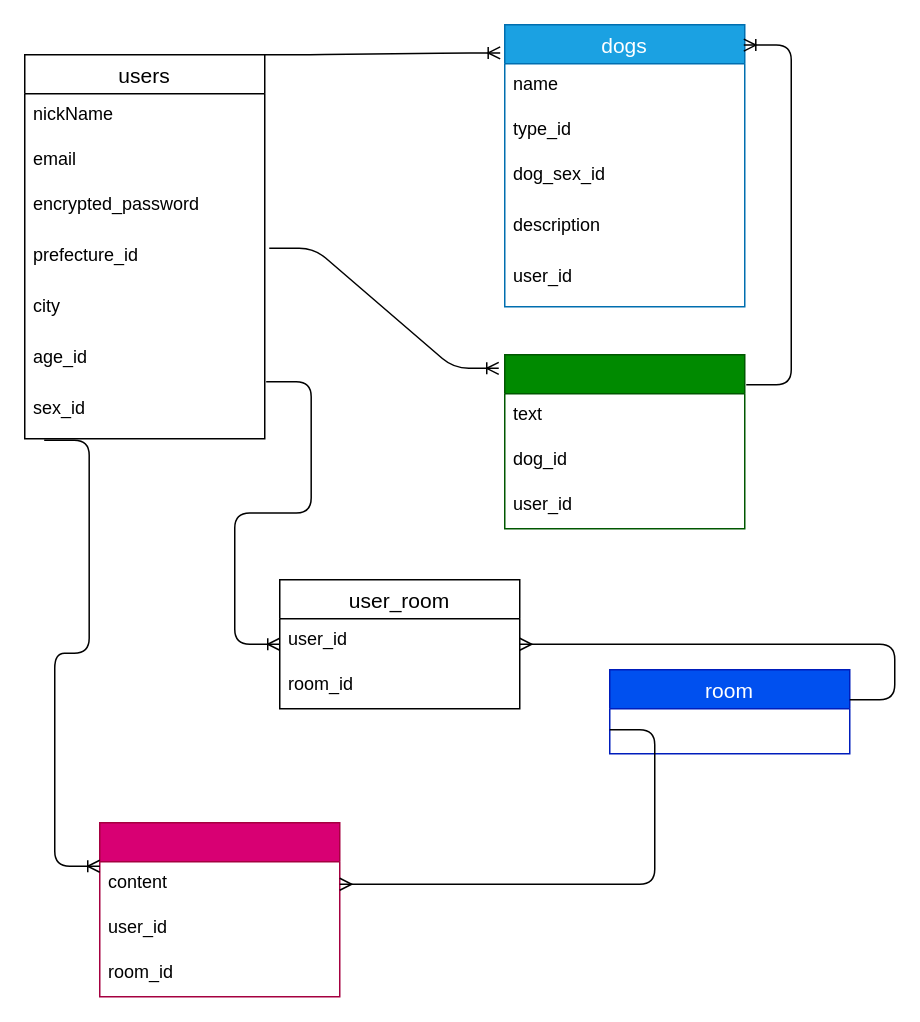
This 920x1022 diagram has some shape labels left out. The shapes that lost their labels are listed below. From the top down, each one's box as (x1, y1, x2, y2) in pixels, then its label:
(503, 353, 745, 529): comments
(98, 821, 340, 997): messages
